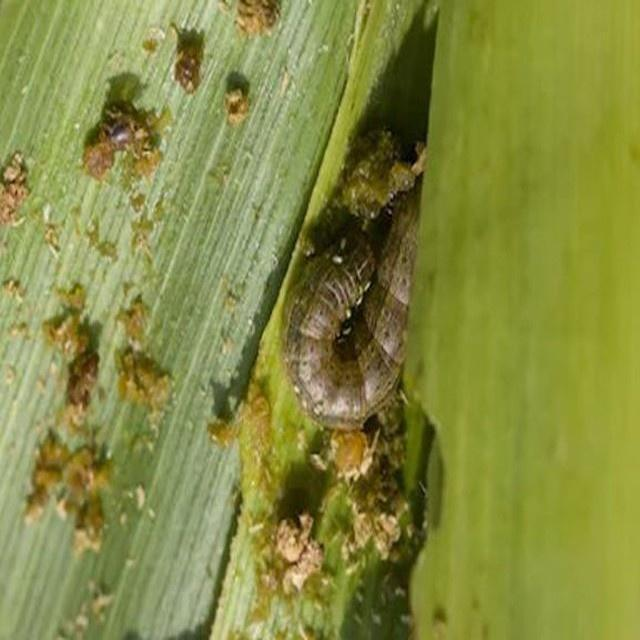gusano_cogollero: (285, 204, 425, 418)
